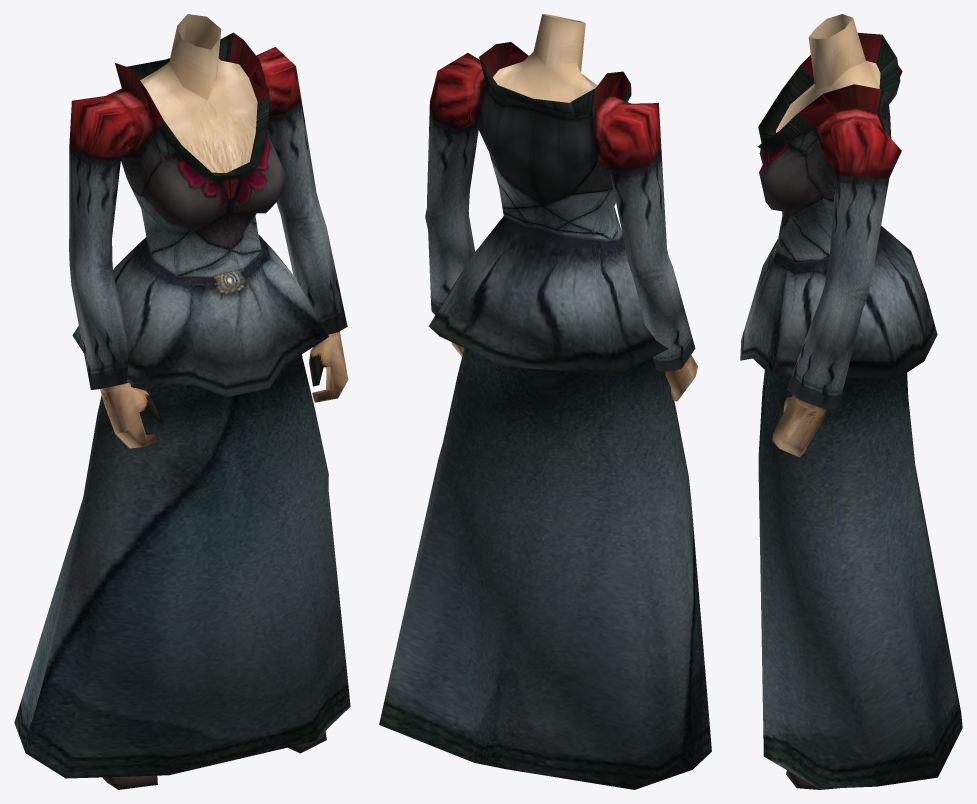
Rendered from ARMOR_VLKBABE_L.glb.
3 renders of one model, left to right at view 1: azimuth 30°, elevation 25°; view 2: azimuth 150°, elevation 25°; view 3: azimuth 270°, elevation 25°, orthographic.
Visible parts, largest first — view 1: ARMOR_VLKBABE_L; view 2: ARMOR_VLKBABE_L; view 3: ARMOR_VLKBABE_L.
Part boxes in pixels (box(x1,y1,x2,y2)): ARMOR_VLKBABE_L: box(14, 14, 350, 789); ARMOR_VLKBABE_L: box(379, 14, 711, 789); ARMOR_VLKBABE_L: box(740, 14, 962, 789).
Size of the model in its own units: 0.7236 by 1.66 by 0.4654.
Materials: 2 (2 with a texture image).
